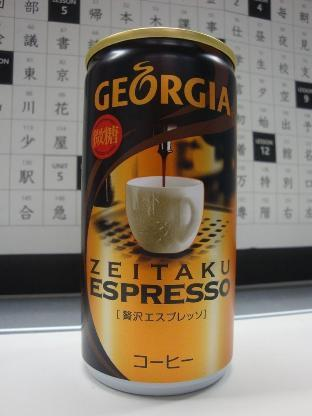Can: (80, 26, 239, 398)
